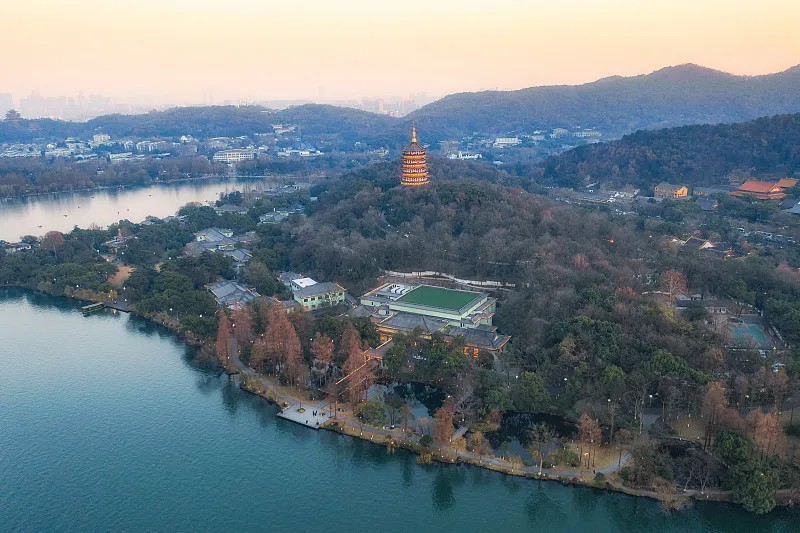Leifeng: (399, 123, 431, 187)
